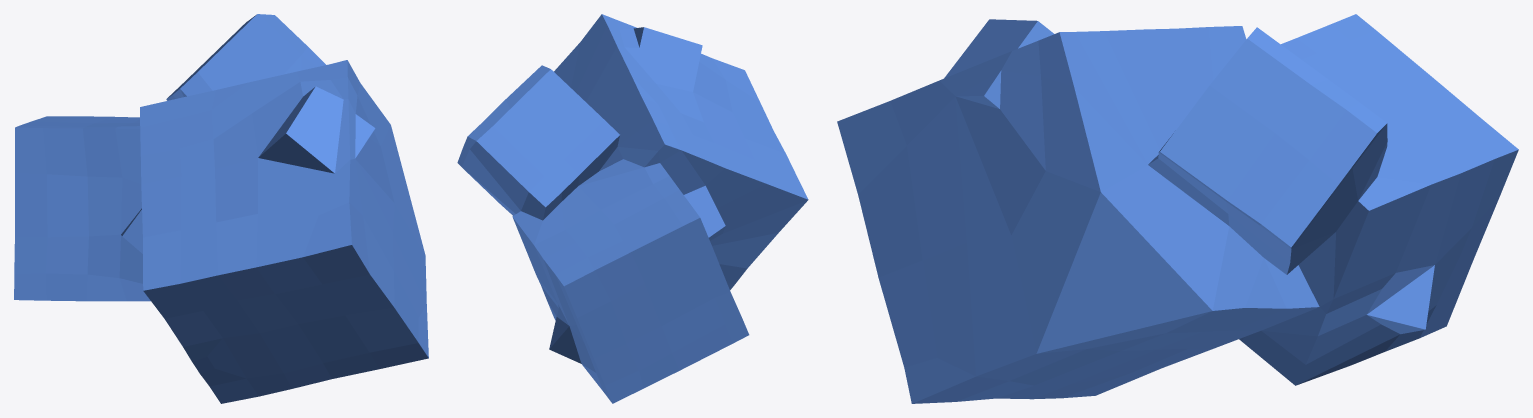
The model's file is Glass_low.fbx.
3 views of the same model, side by side, from view 1: azimuth 30°, elevation 25°; view 2: azimuth 150°, elevation 25°; view 3: azimuth 270°, elevation 25° (orthographic). The views are drawn at different scales.
Parts seen in each view (by area): view 1: Glass_low; view 2: Glass_low; view 3: Glass_low.
Boxes of the visible parts, x1,y1,x2,y2 form: Glass_low: [14, 14, 428, 403]; Glass_low: [457, 14, 808, 403]; Glass_low: [837, 14, 1518, 403].
Size of the model in its own units: 323 by 308 by 436.
